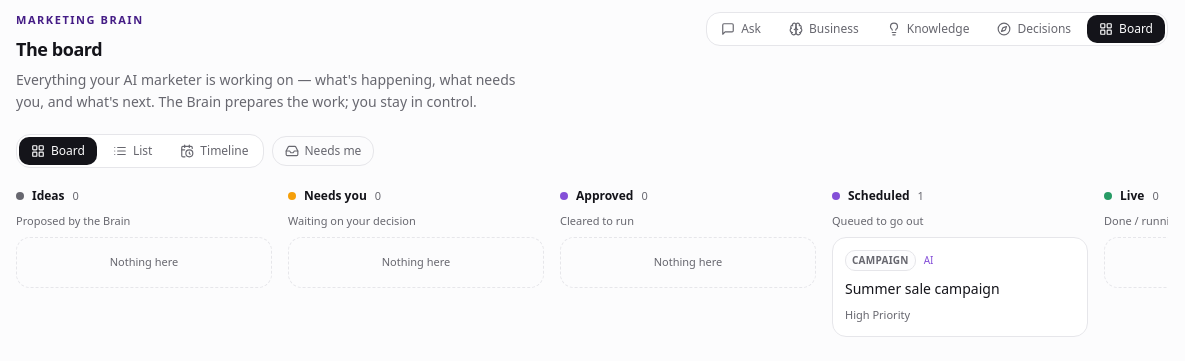
it: MarketingBoardPage › switches to List and Timeline over the same data
expect the element with test id "board-columns" is shown: met, box [16,188,1168,344]
Click the tab with test id "board-view-list": click(133, 151) [101,137,164,165]
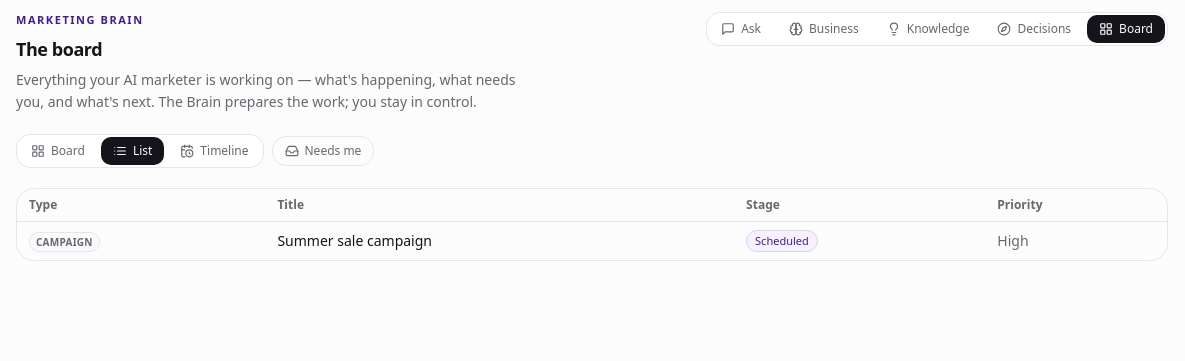
expect the element with test id "board-list" is shown: met, box [16,188,1168,261]
Click the tab with test id "board-view-timeline": click(214, 151) [168,137,260,165]
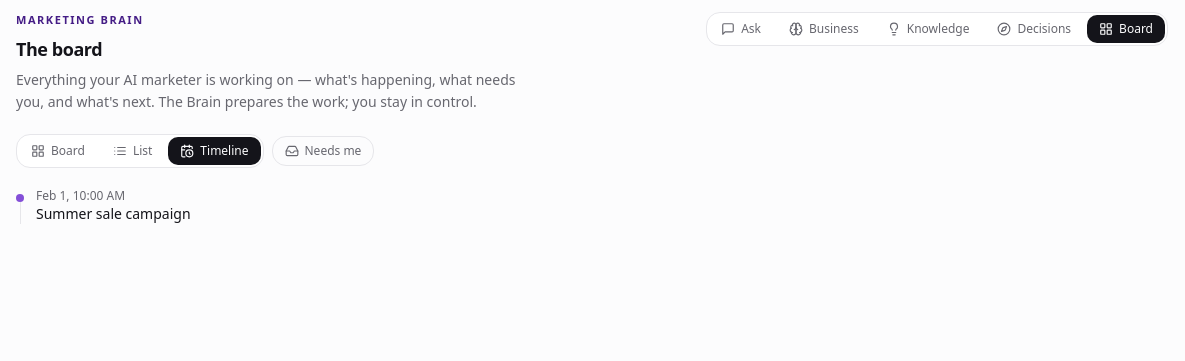
expect the element with test id "board-timeline" is shown: met, box [16,188,190,224]
